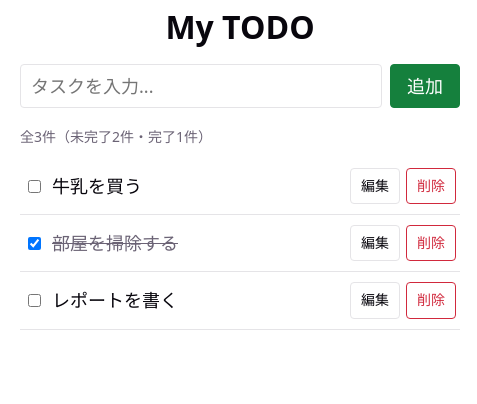
App › 入力して追加すると一覧の件数が1つ増え、タイトルが表示される
In the field labelled "タスクを入力": (201, 86) x1=20 y1=64 x2=382 y2=108, type "散歩する"
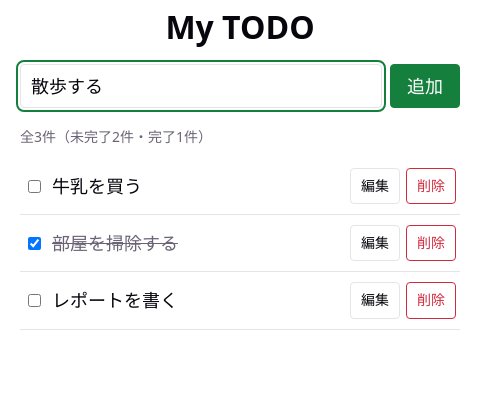
Click the button "追加": (425, 86) x1=390 y1=64 x2=460 y2=108
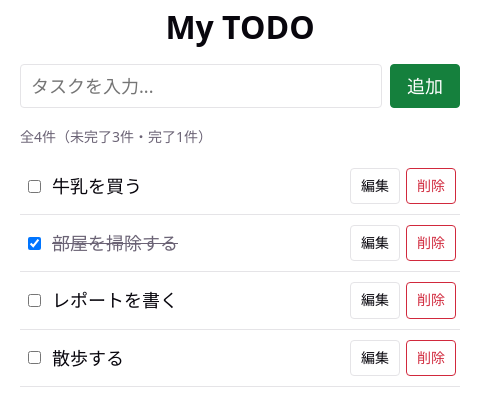
Check: the number of list items is 4, box x1=20 y1=158 x2=460 y2=215; x1=20 y1=215 x2=460 y2=272; x1=20 y1=272 x2=460 y2=330; x1=20 y1=330 x2=460 y2=387
Check: the text "散歩する" is shown, box x1=52 y1=346 x2=124 y2=370
